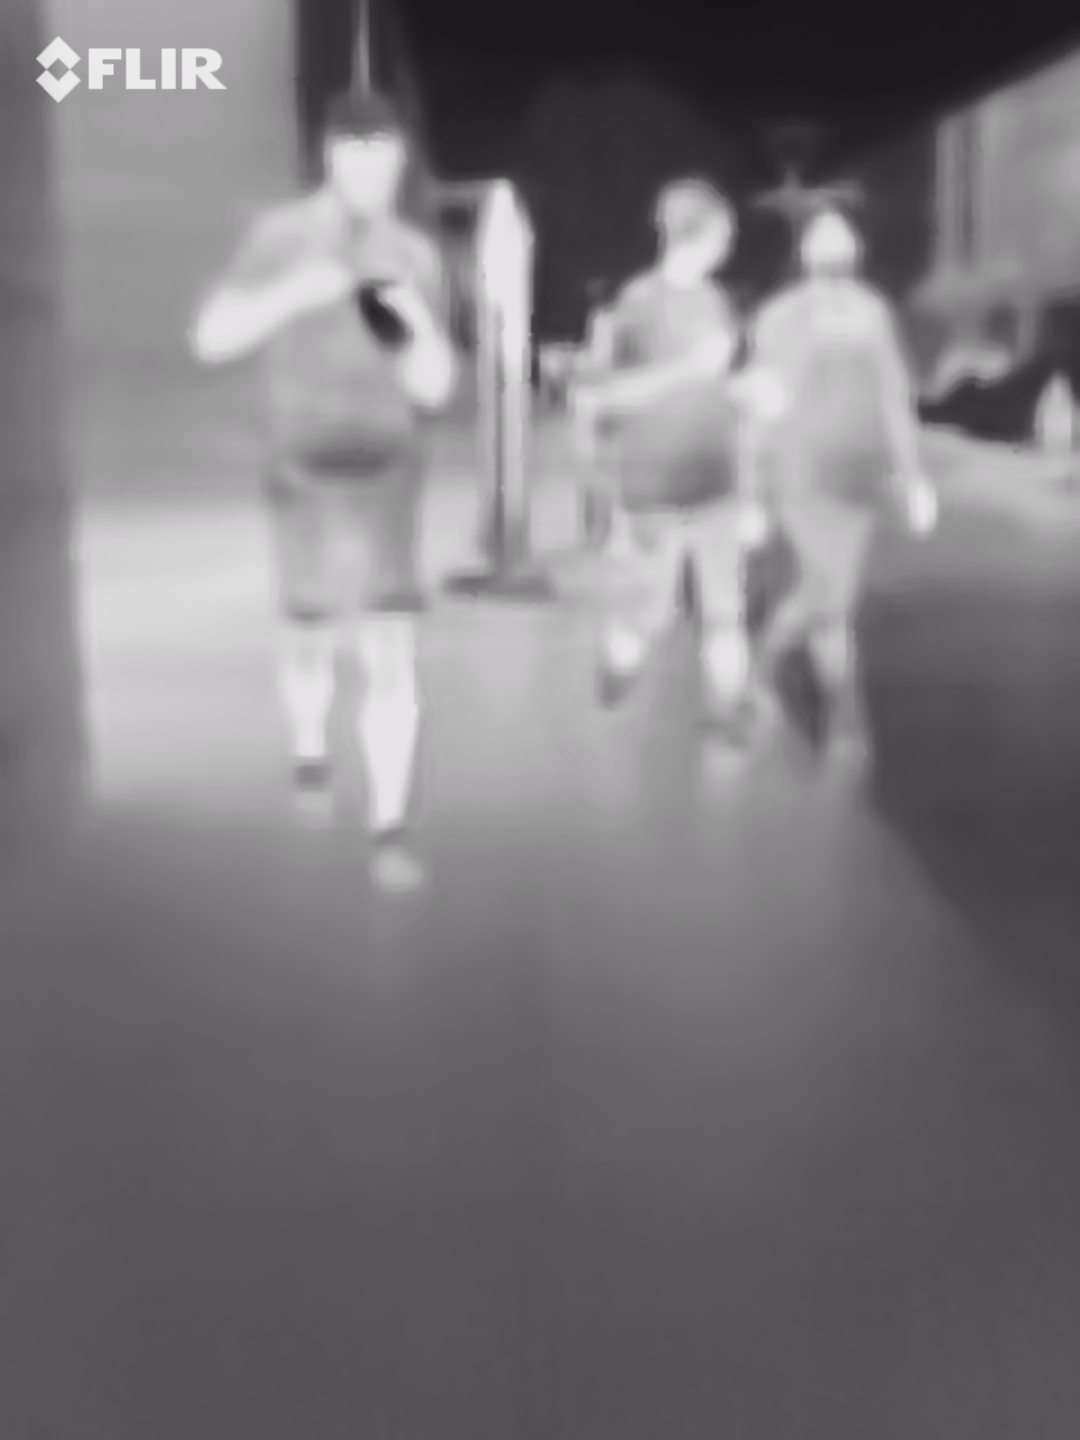head: (319, 94, 413, 230)
